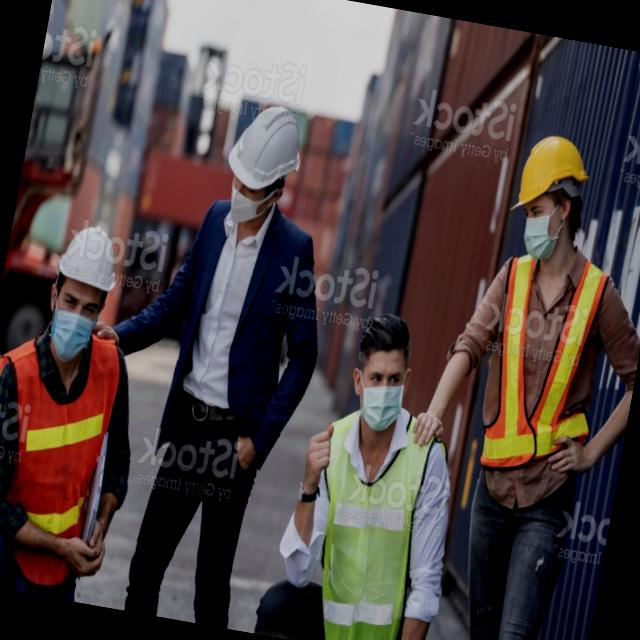helmet: (215, 81, 318, 202), (509, 124, 590, 214), (48, 214, 128, 295)
no-goggles: (356, 348, 406, 400), (56, 286, 102, 324), (520, 193, 567, 225)
no-helmet: (352, 286, 426, 369)
no-vest: (154, 197, 322, 435)
vest: (289, 393, 450, 640), (470, 245, 616, 504), (0, 303, 129, 561)
